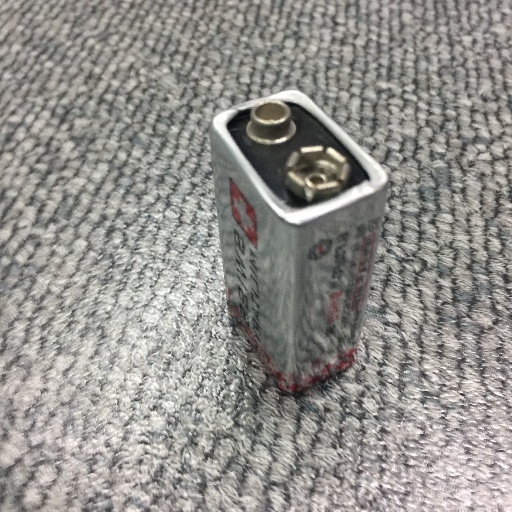Battery_3: (194, 70, 406, 414)
